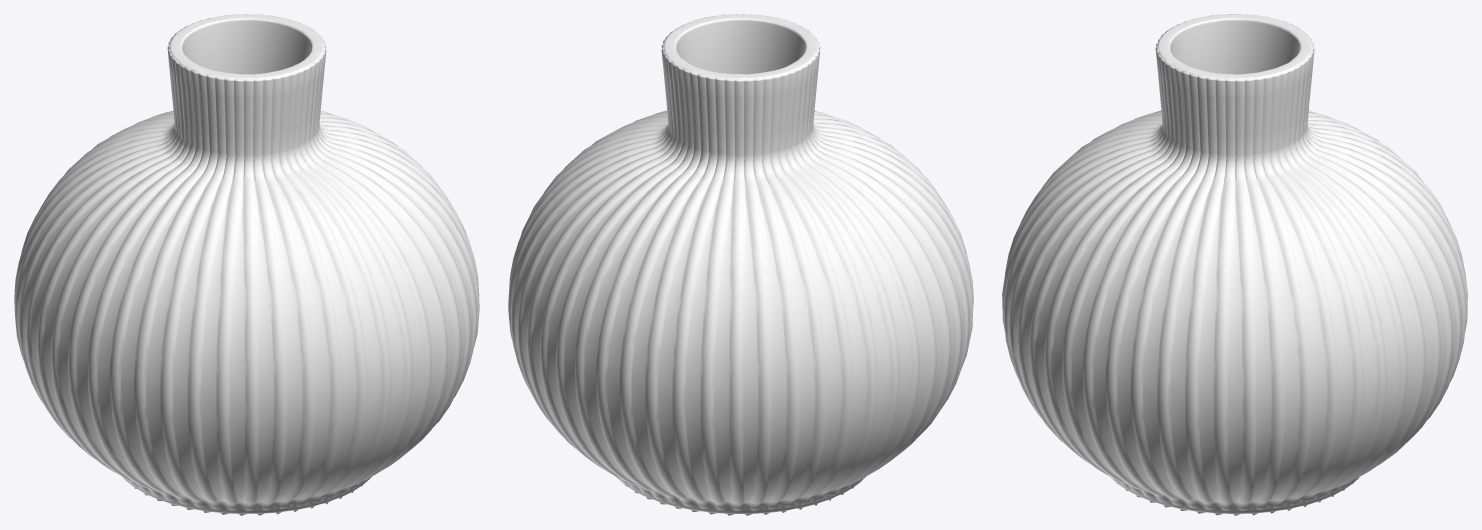
File: grasparv_wazon_20639782.glb
3 renders of one model, left to right at view 1: azimuth 30°, elevation 25°; view 2: azimuth 150°, elevation 25°; view 3: azimuth 270°, elevation 25°, orthographic.
Visible parts, largest first — view 1: grasparv_wazon_20639782; view 2: grasparv_wazon_20639782; view 3: grasparv_wazon_20639782.
Part boxes in pixels (x1,y1,x2,y2): grasparv_wazon_20639782: (14,14,479,515); grasparv_wazon_20639782: (508,14,973,515); grasparv_wazon_20639782: (1002,14,1467,515).
Size of the model in its own units: 0.0976 by 0.0962 by 0.0978.
Materials: 1 (1 with a texture image).
